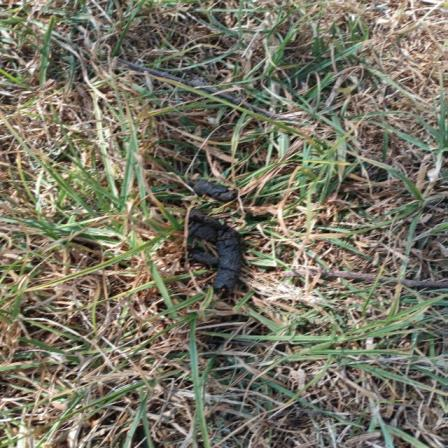dog-poop: (186, 211, 250, 291), (187, 175, 241, 209)
